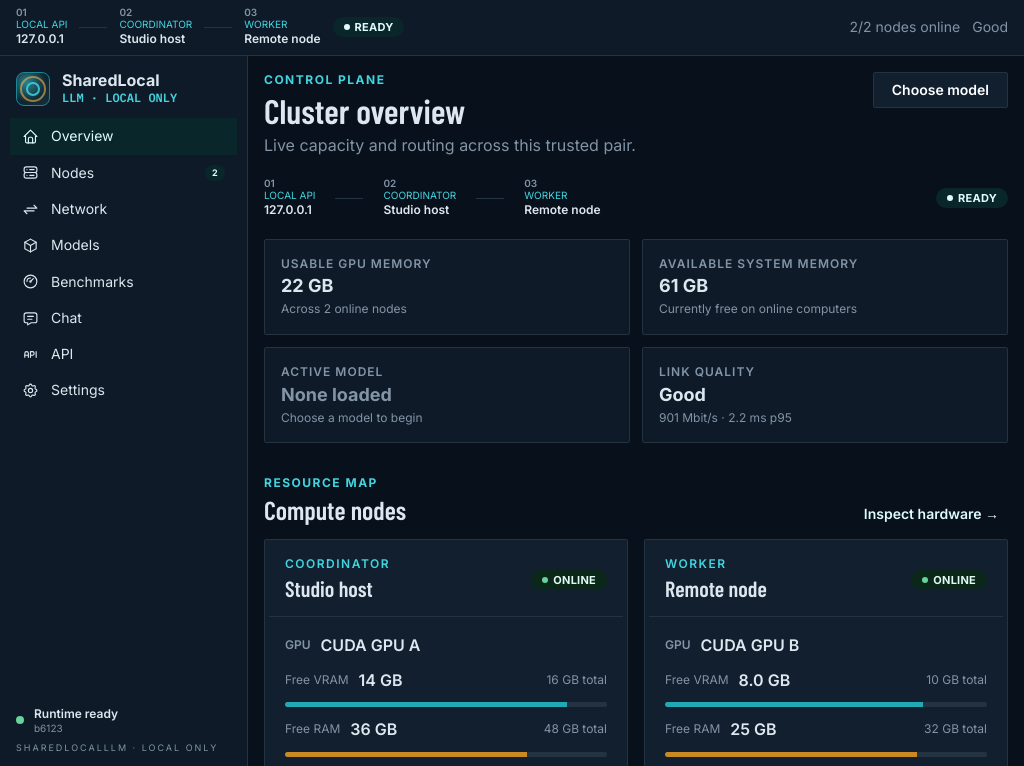
it: SharedLocalLLM app › masks the API key and can reveal it
Expected: the heading "Cluster overview" is shown, [264,90,465,131]
Click the button "API" at (124, 354), box [10,336,237,372]
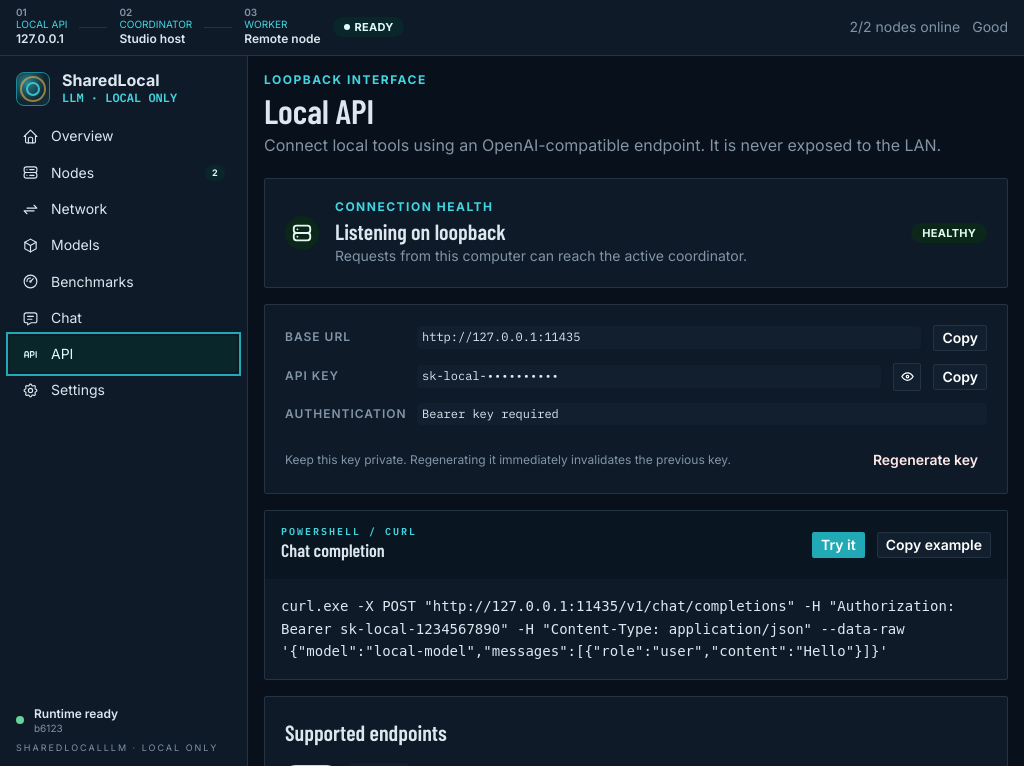
Result: the text "sk-local-••••••••••" is shown at [417,365,881,388]
Click the button named "show api key" at (907, 377), box [893,363,921,391]
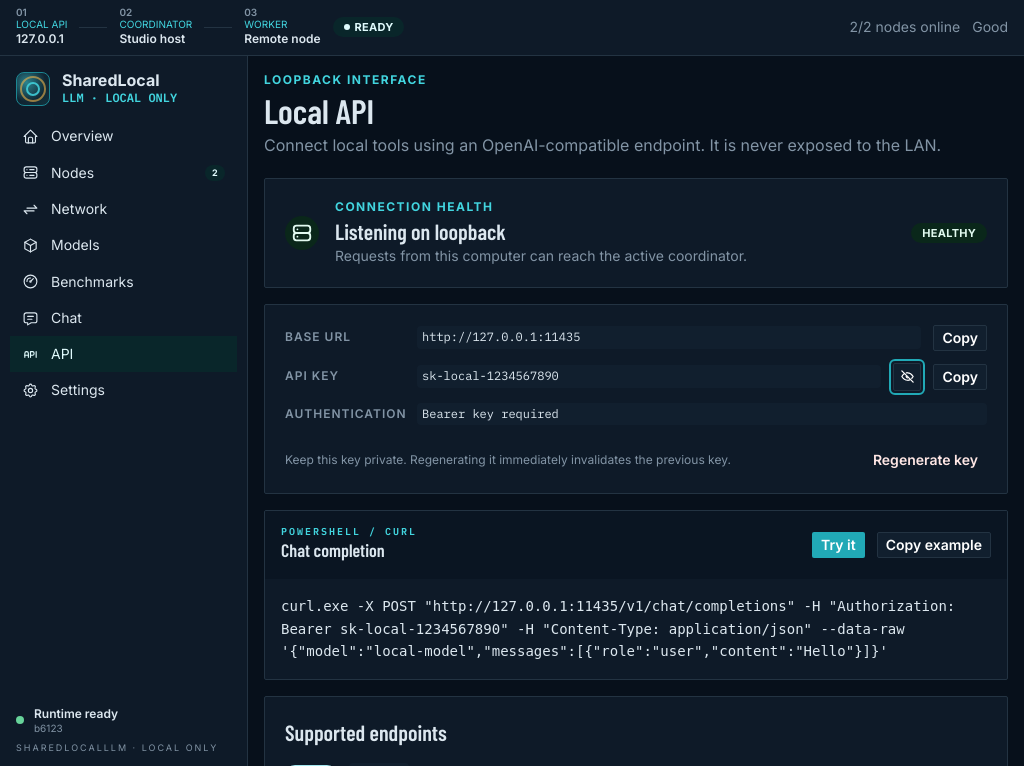
Result: the text "sk-local-1234567890" is shown at [417,365,881,388]
